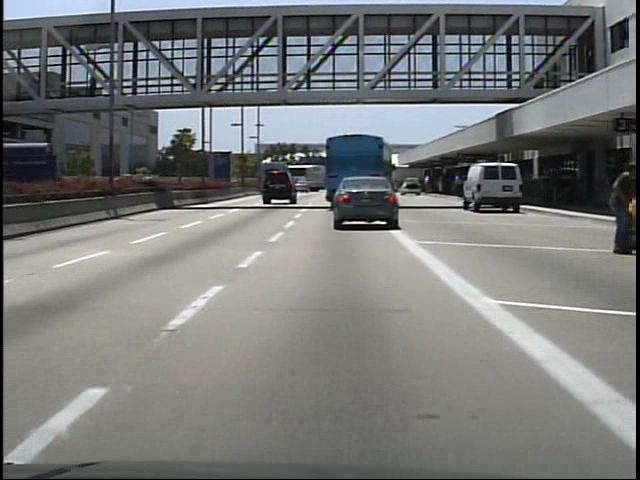person: (602, 152, 637, 254), (548, 166, 570, 208), (191, 65, 207, 100), (88, 68, 104, 98), (454, 172, 466, 196)
